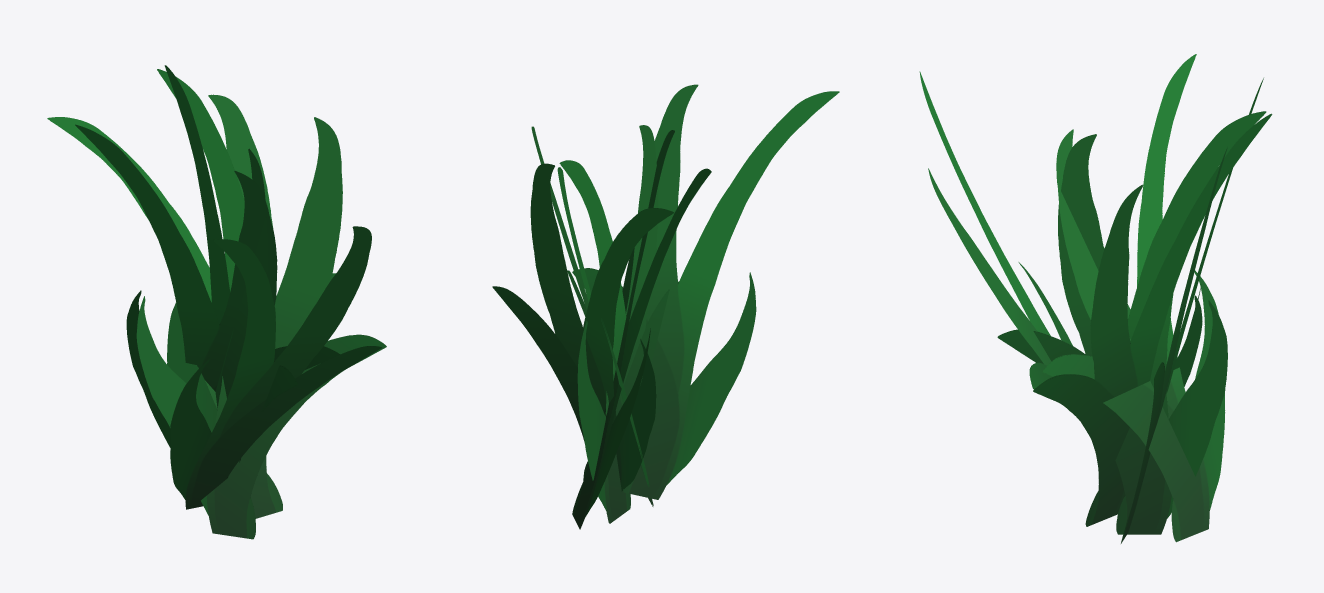
The model's file is grass-tallv0.3.fbx.
The picture shows the model from 3 angles, left to right: view 1: azimuth 30°, elevation 25°; view 2: azimuth 150°, elevation 25°; view 3: azimuth 270°, elevation 25°; orthographic projection. The views are drawn at different scales.
Visible parts, largest first — view 1: Plane.001; view 2: Plane.001; view 3: Plane.001.
Boxes of the visible parts, x1,y1,x2,y2 form: Plane.001: [47, 65, 386, 539]; Plane.001: [492, 84, 839, 529]; Plane.001: [919, 54, 1272, 543].
Size of the model in its own units: 91.53 by 132 by 103.
